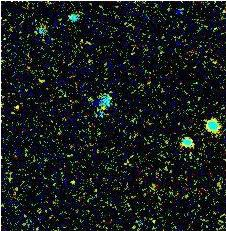star: (0, 92, 30, 122)
